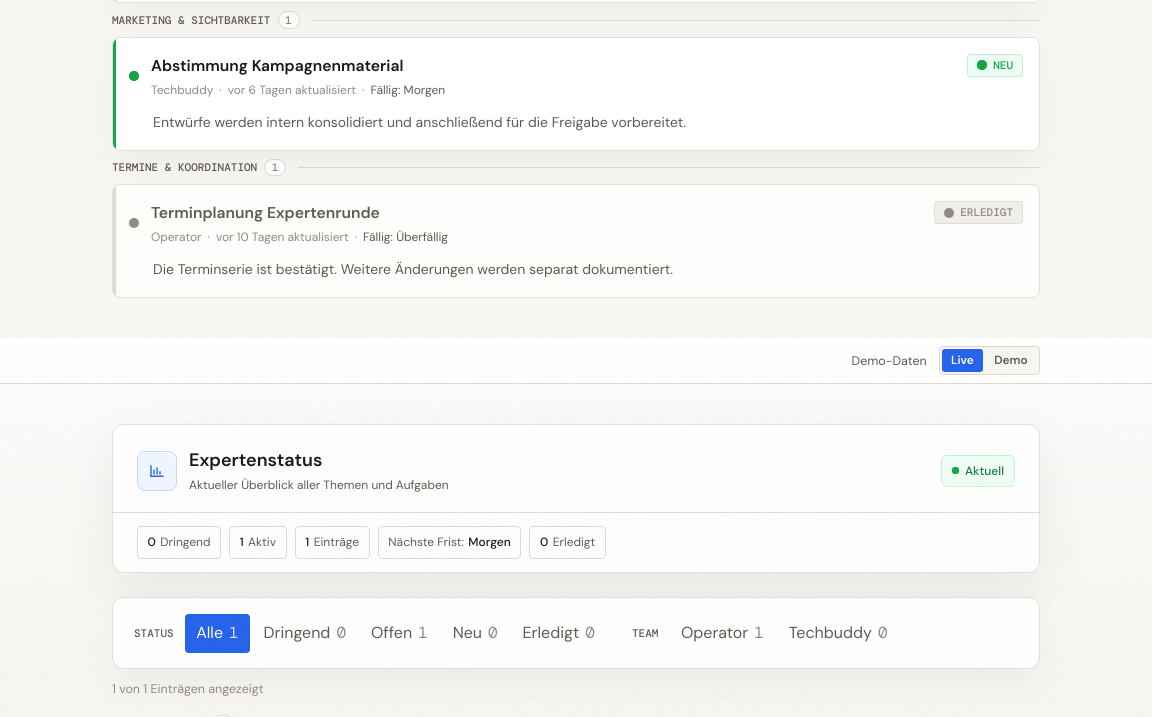
Test: toggles production mock data when enabled by URL
(page scrolled)
Click the button "Demo" at x=1011, y=361, box [985, 349, 1037, 372]
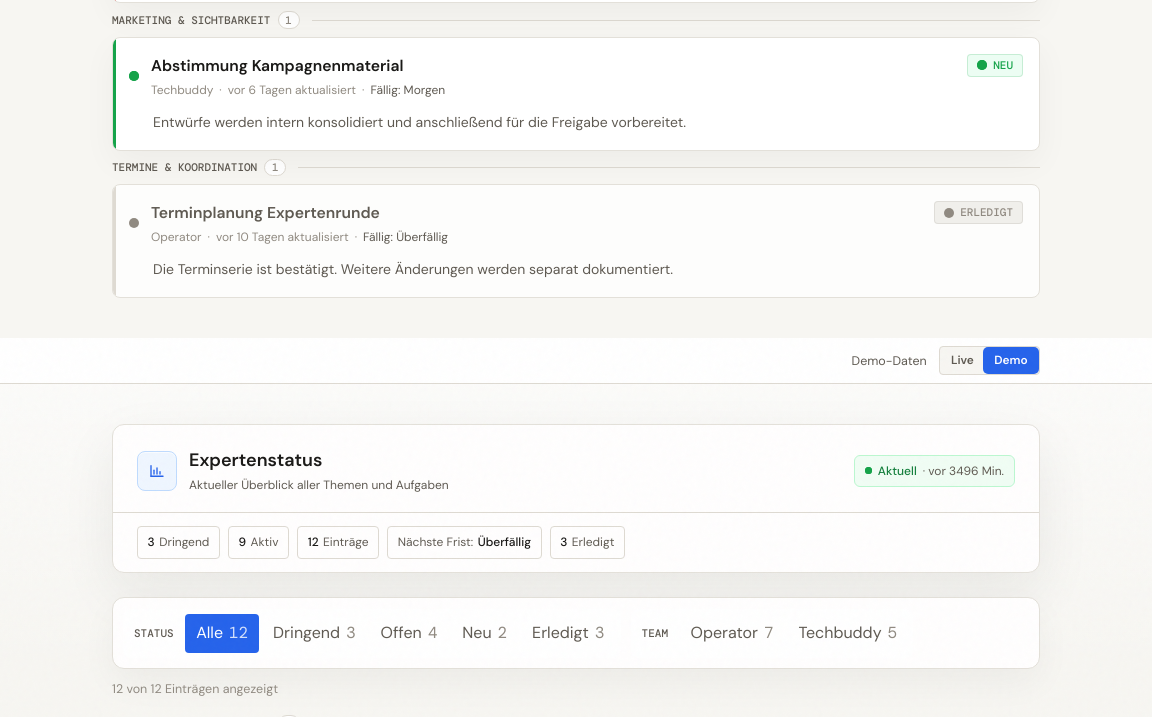
Now the text "12 von 12 Einträgen angezeigt" is shown, box [112, 681, 278, 697]
